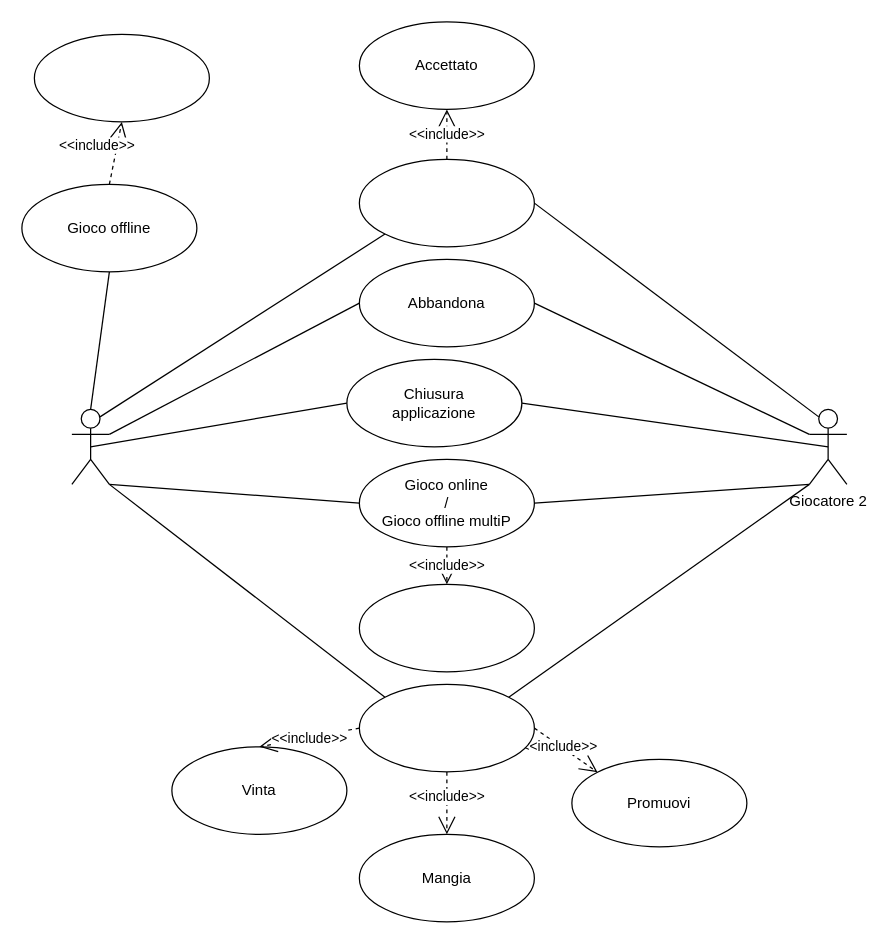
Some shapes in this 889 by 944 pixel diagram are drawn without their labels. Each missing label, with the centre of its shape:
Engine dama: the point at 121,77
Giocatore 1: the point at 90,446
Inzio partita: the point at 446,627
Muovi pezzo: the point at 446,727
Offerta patta: the point at 446,202
